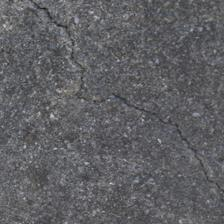Crack: (116, 95, 220, 191), (34, 3, 107, 107)
